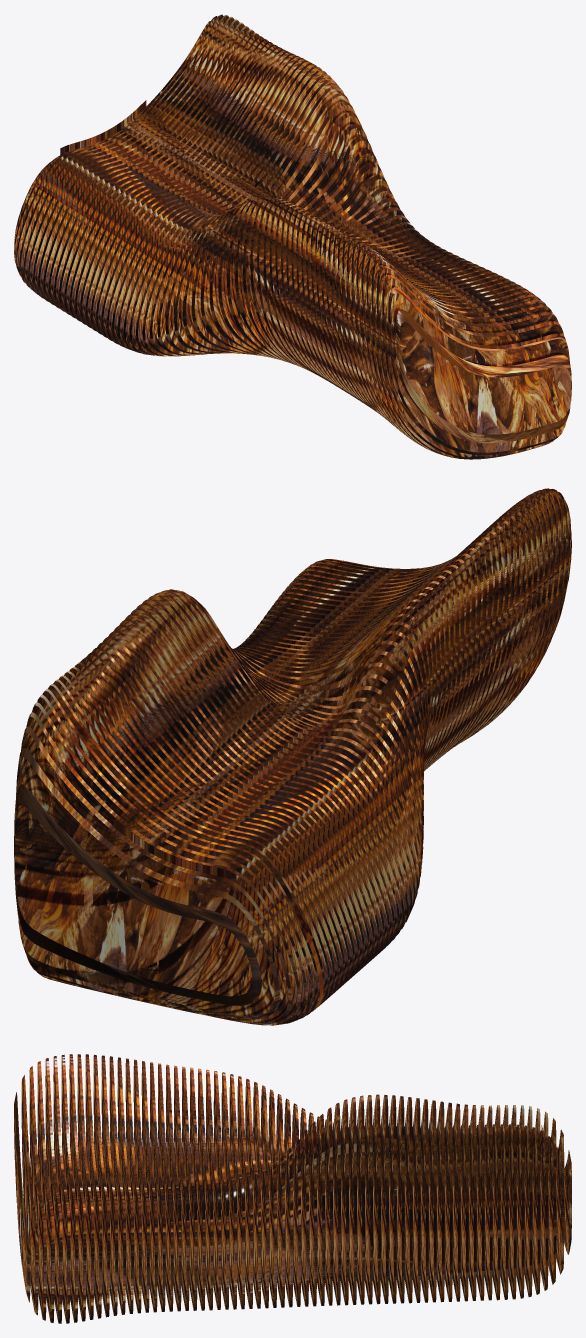
The model's file is beAch.glb.
3 views of the same model, one above another, from view 1: azimuth 30°, elevation 25°; view 2: azimuth 150°, elevation 25°; view 3: azimuth 270°, elevation 25° (orthographic). The views are drawn at different scales.
Visible parts, largest first — view 1: Shape; view 2: Shape; view 3: Shape.
Boxes of the visible parts, <box> form: Shape: <box>14,14,571,459</box>; Shape: <box>14,488,571,1025</box>; Shape: <box>14,1054,571,1323</box>.
Bounding box in the file's own units: 3.13 × 2.8 × 6.62.
1 material, 1 textured.
